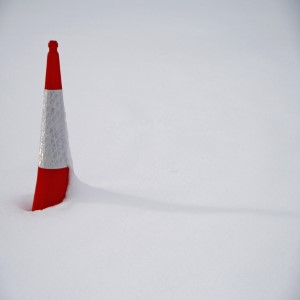traffic cone: (14, 39, 91, 222)
